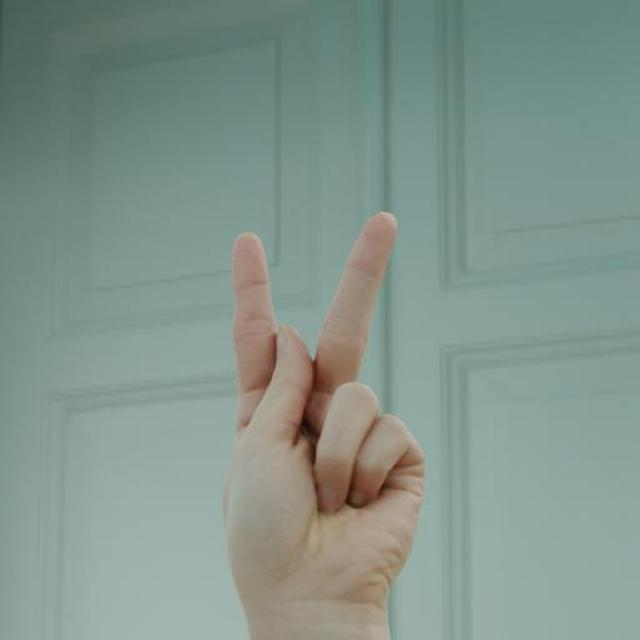K: (219, 208, 428, 611)
